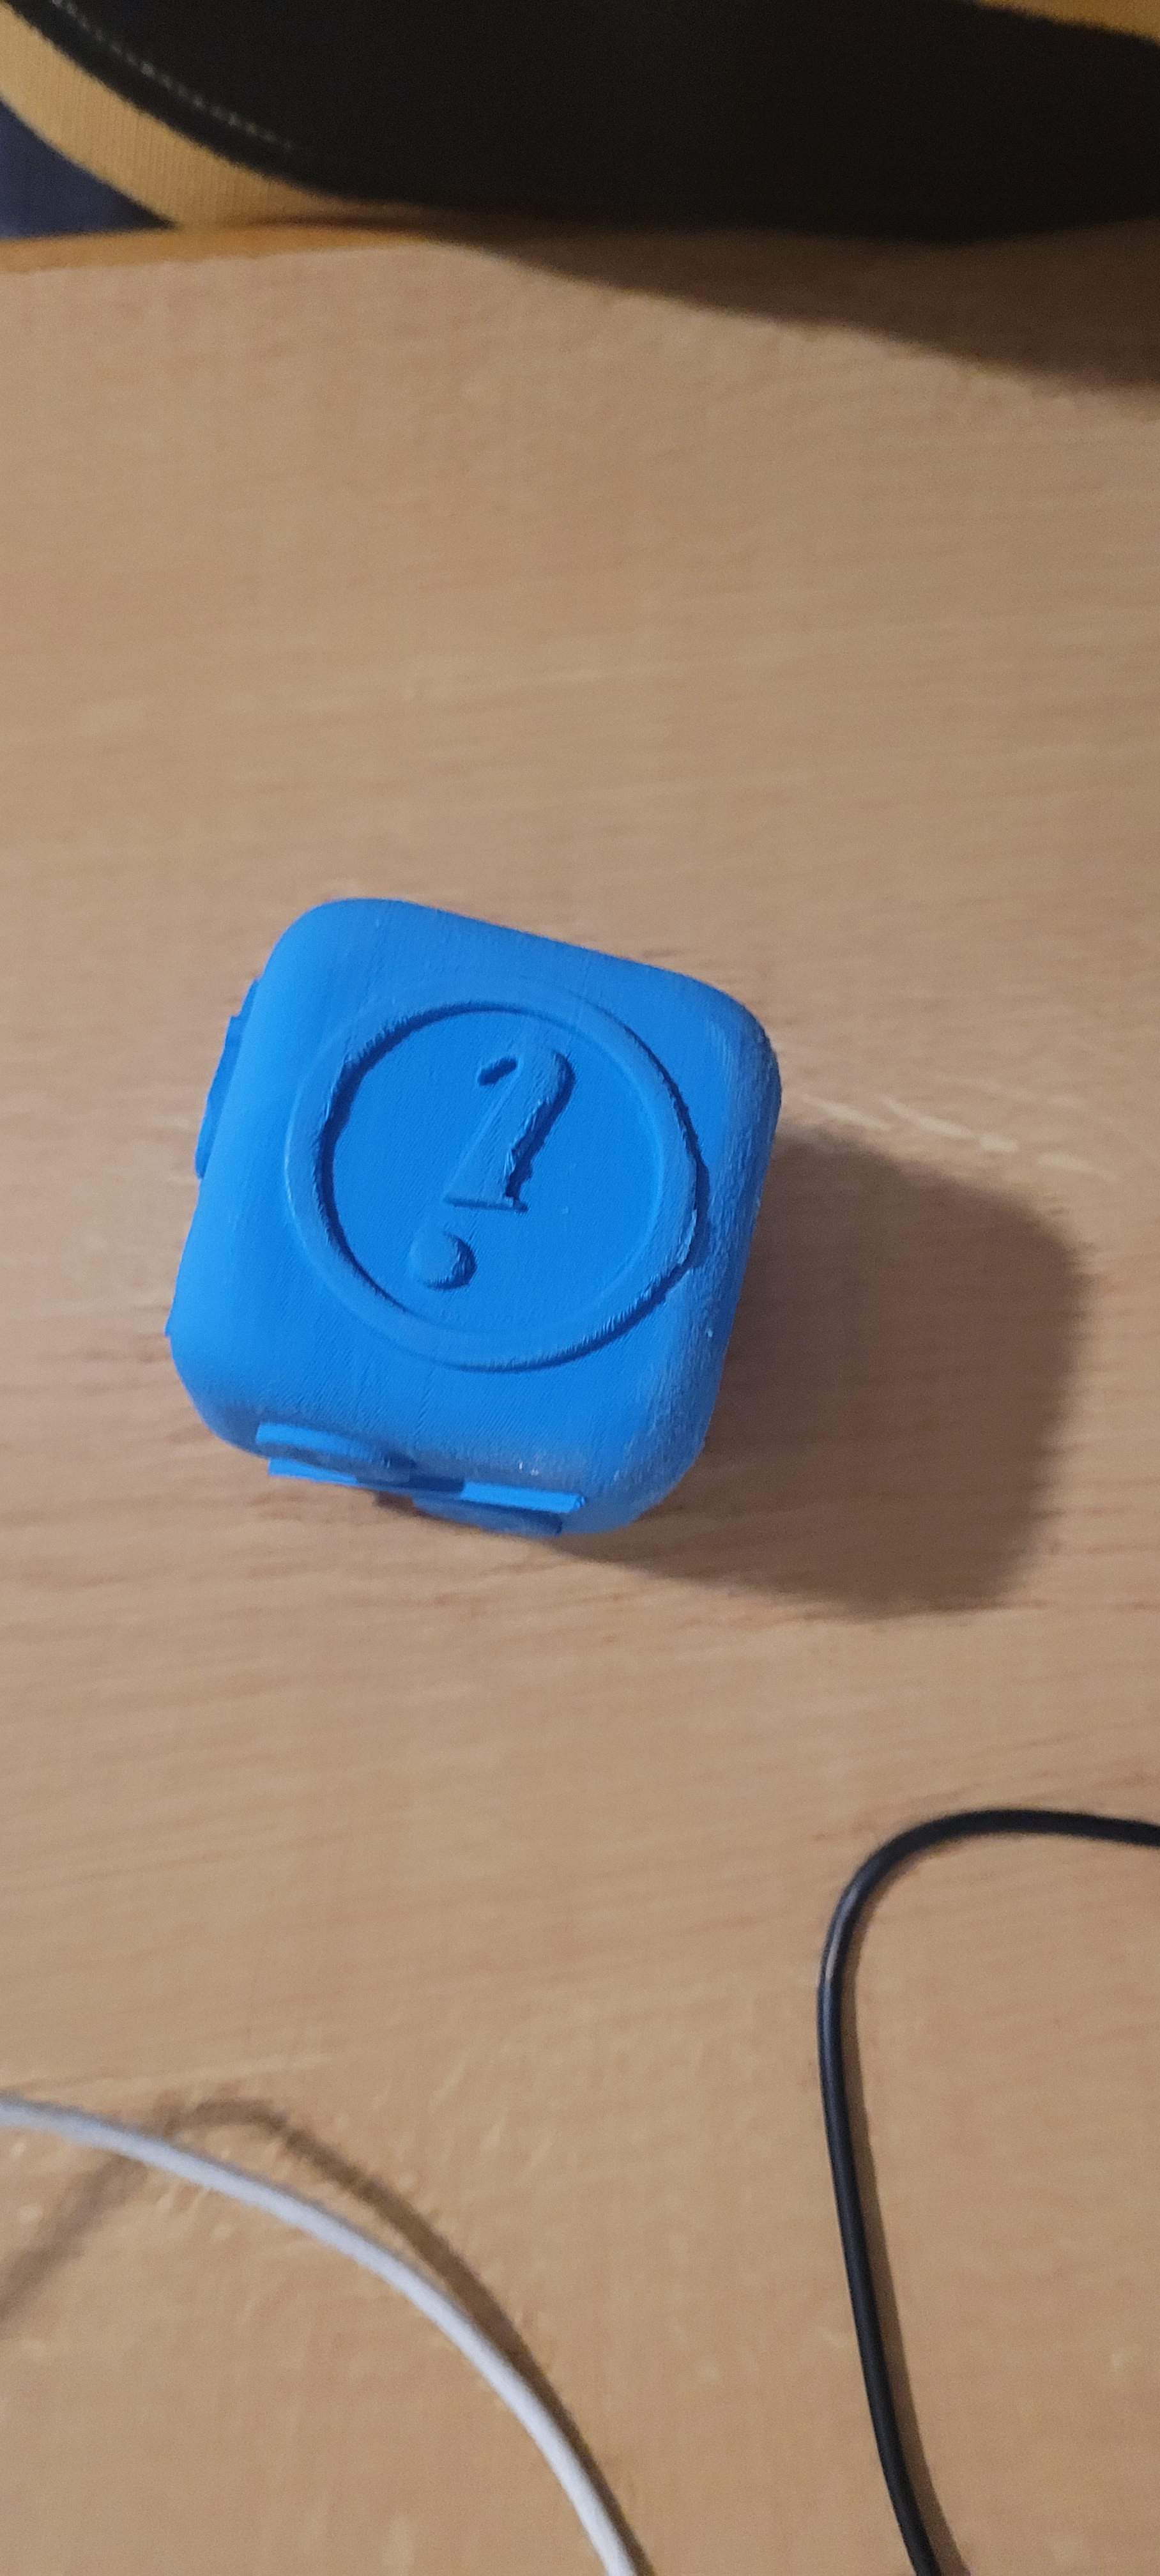Info: (288, 933, 757, 1424)
